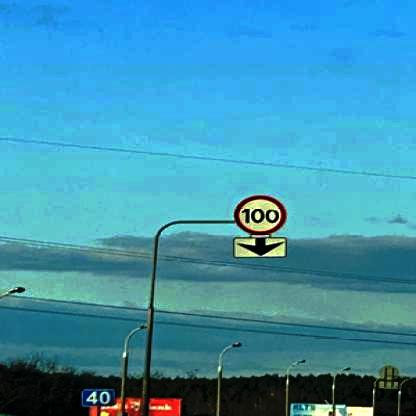Speed Limit -100-: (232, 194, 288, 238)
